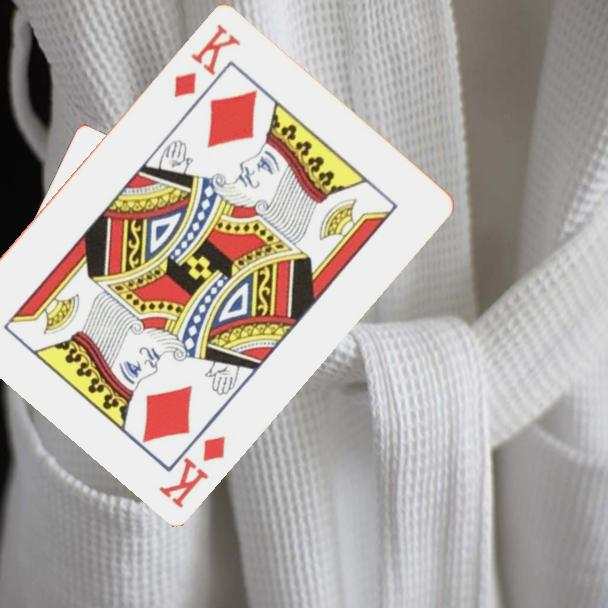d13: (170, 19, 244, 100), (155, 431, 229, 511)
